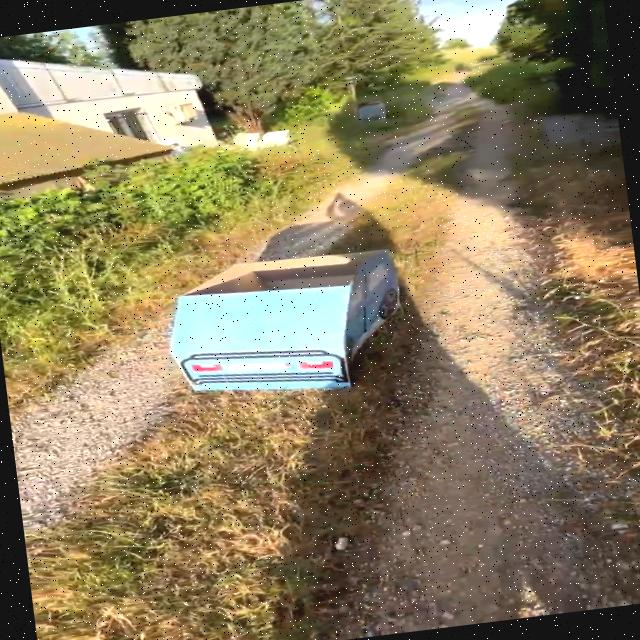blue_car: (124, 202, 455, 442)
